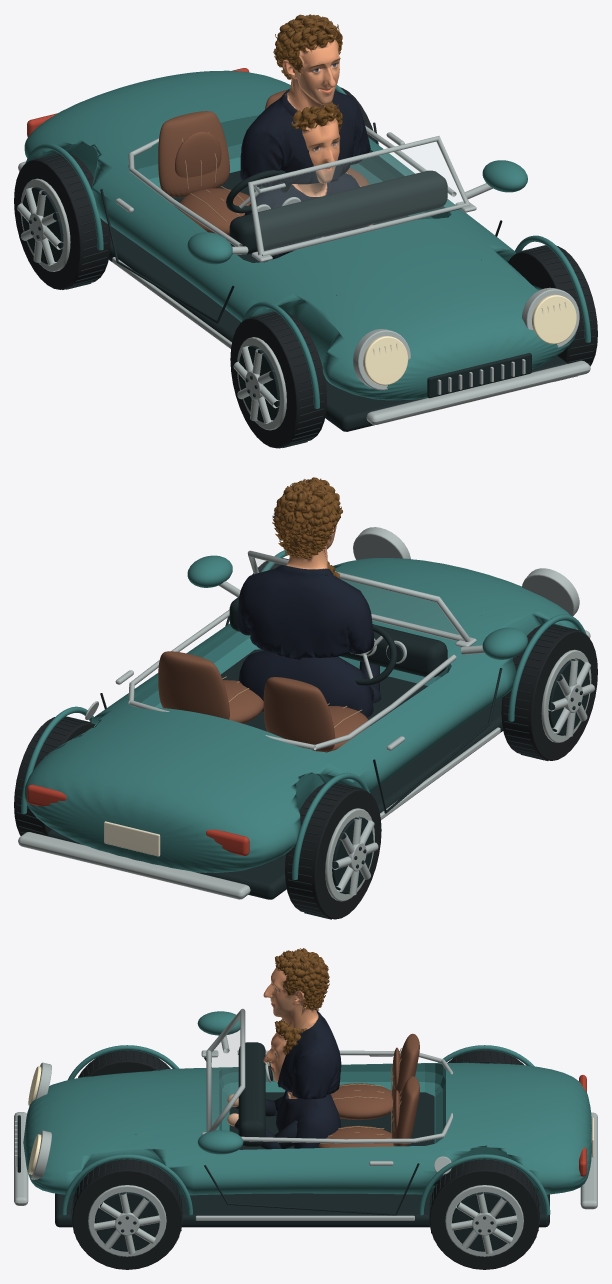
The model's file is mark-trial-kit.glb.
3 views of the same model, one above another, from view 1: azimuth 30°, elevation 25°; view 2: azimuth 150°, elevation 25°; view 3: azimuth 270°, elevation 25° (orthographic). The views are drawn at different scales.
Parts seen in each view (by area): view 1: Vehicle / Coupe paint, Vehicle / Charcoal, Windscreen, Vehicle / Satin aluminium, mark / portrait sculpture, Vehicle / Saddle leather, Road tire.001, Road tire, mark / driving sculpture, Vehicle / Warm headlight, Road tire.003, Wheel_RL / Satin aluminium (+5 smaller); view 2: Vehicle / Coupe paint, mark / portrait sculpture, Vehicle / Satin aluminium, Vehicle / Charcoal, Vehicle / Saddle leather, Road tire, Road tire.001, mark / driving sculpture, Wheel_RL / Satin aluminium, Wheel_FL / Satin aluminium, Windscreen, Road tire.002 (+5 smaller); view 3: Vehicle / Coupe paint, Vehicle / Charcoal, Vehicle / Satin aluminium, mark / portrait sculpture, Road tire.003, Road tire.002, Vehicle / Saddle leather, mark / driving sculpture, Wheel_RR / Satin aluminium, Wheel_FR / Satin aluminium, Wheel_FR / Charcoal, Wheel_RR / Charcoal (+5 smaller).
Boxes of the visible parts, x1,y1,x2,y2 form: Vehicle / Coupe paint: [24, 70, 590, 408]; Vehicle / Charcoal: [100, 122, 567, 431]; Windscreen: [254, 142, 463, 250]; Vehicle / Satin aluminium: [18, 125, 590, 424]; mark / portrait sculpture: [240, 14, 370, 187]; Vehicle / Saddle leather: [158, 89, 369, 235]; Road tire.001: [230, 312, 326, 448]; Road tire: [14, 153, 110, 289]; mark / driving sculpture: [244, 101, 359, 250]; Vehicle / Warm headlight: [363, 294, 576, 385]; Road tire.003: [508, 246, 597, 366]; Wheel_RL / Satin aluminium: [17, 178, 70, 271]; Vehicle / Coupe paint: [21, 550, 586, 879]; mark / portrait sculpture: [237, 477, 374, 659]; Vehicle / Satin aluminium: [18, 527, 590, 899]; Vehicle / Charcoal: [46, 596, 503, 899]; Vehicle / Saddle leather: [158, 651, 369, 752]; Road tire: [285, 783, 381, 919]; Road tire.001: [501, 624, 597, 760]; mark / driving sculpture: [239, 561, 373, 717]; Wheel_RL / Satin aluminium: [325, 808, 378, 901]; Wheel_FL / Satin aluminium: [541, 649, 594, 742]; Windscreen: [254, 558, 460, 636]; Road tire.002: [14, 717, 95, 835]; Vehicle / Coupe paint: [23, 1011, 591, 1215]; Vehicle / Charcoal: [17, 1042, 549, 1227]; Vehicle / Satin aluminium: [14, 1008, 597, 1220]; mark / portrait sculpture: [263, 948, 341, 1099]; Road tire.003: [72, 1159, 182, 1269]; Road tire.002: [429, 1159, 539, 1269]; Vehicle / Saddle leather: [318, 1033, 419, 1147]; mark / driving sculpture: [263, 1018, 341, 1148]; Wheel_RR / Satin aluminium: [445, 1185, 523, 1256]; Wheel_FR / Satin aluminium: [88, 1185, 166, 1256]; Wheel_FR / Charcoal: [71, 1159, 182, 1251]; Wheel_RR / Charcoal: [429, 1159, 540, 1251].
Size of the model in its own units: 2.2 by 1.99 by 4.07.
13 materials, 1 textured.
